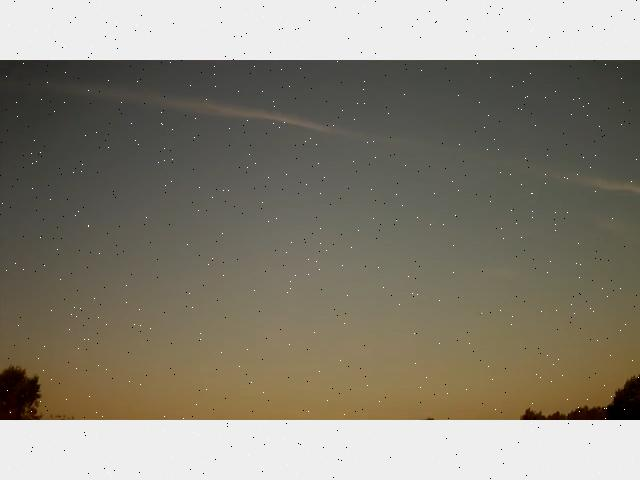Anti-Drone: (474, 307, 490, 320)
